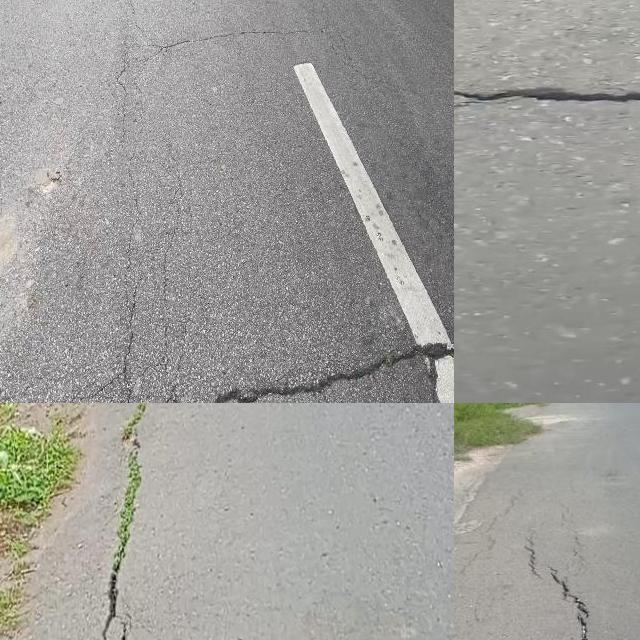Melintang: (130, 331, 454, 403), (122, 17, 343, 75), (454, 76, 640, 117)
Memanjang: (88, 403, 160, 640)
